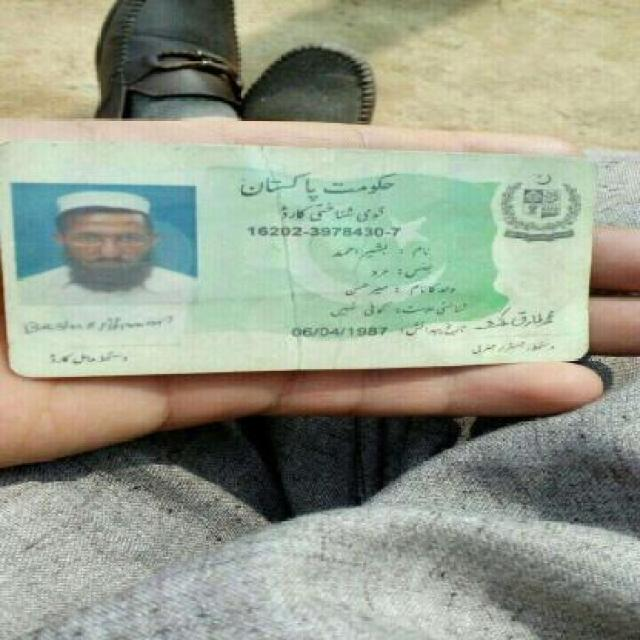Front: (3, 131, 612, 371)
